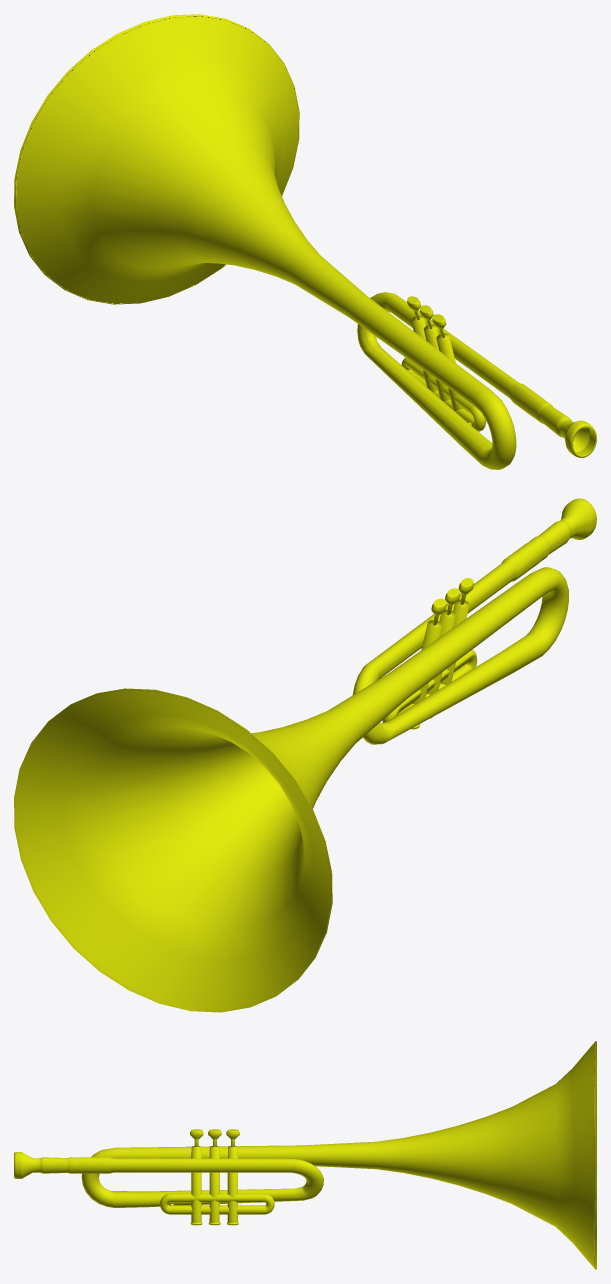
File: trumpetAnim1.fbx
The picture shows the model from 3 angles, top to bottom: view 1: azimuth 30°, elevation 25°; view 2: azimuth 150°, elevation 25°; view 3: azimuth 270°, elevation 25°; orthographic projection. The views are drawn at different scales.
Parts seen in each view (by area): view 1: Trumpet_Baked.001; view 2: Trumpet_Baked.001; view 3: Trumpet_Baked.001.
Boxes of the visible parts, <box> form: Trumpet_Baked.001: <box>14,14,596,469</box>; Trumpet_Baked.001: <box>14,498,596,1012</box>; Trumpet_Baked.001: <box>14,1041,596,1269</box>.
Bounding box in the file's own units: 0.3843 × 0.9301 × 0.3609.
